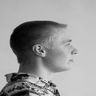ear: (30, 42, 49, 60)
